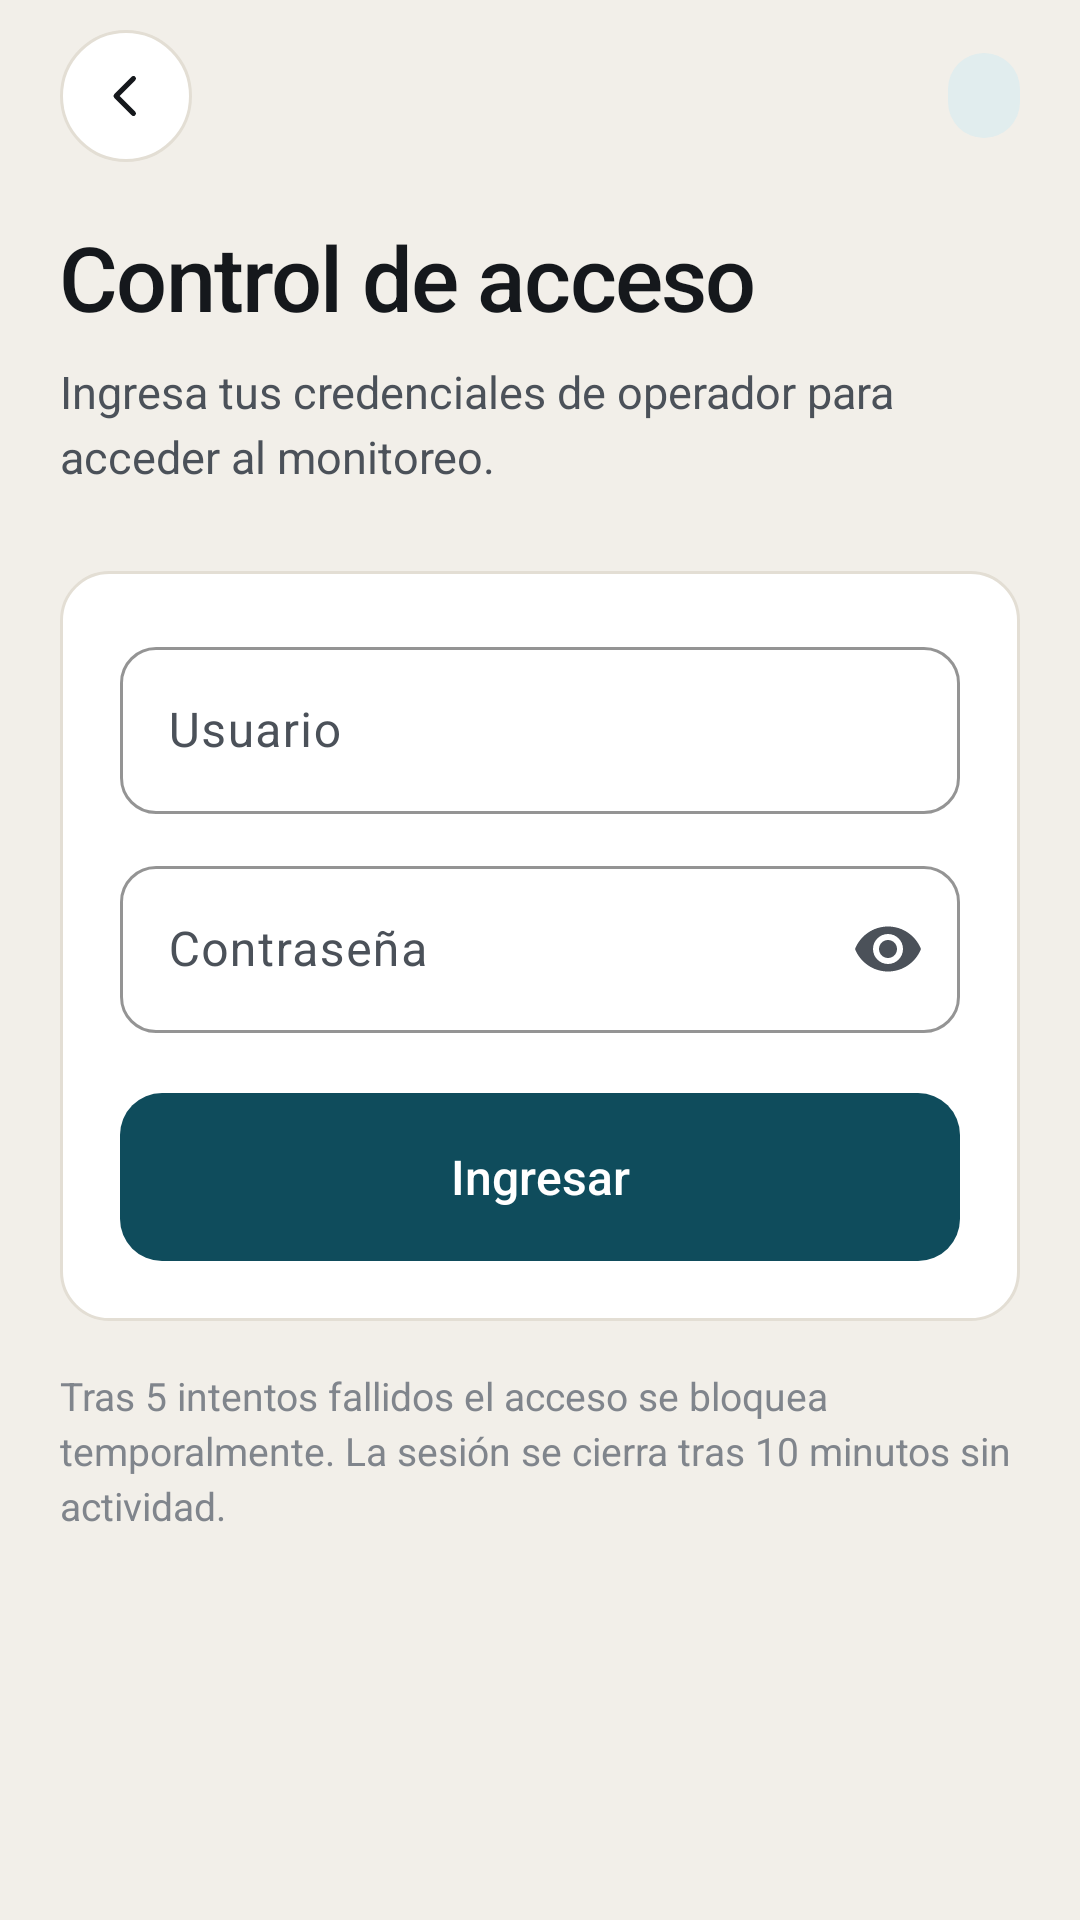

Screen size 1080×1920. Icon name, then its box in pixels as (x1, y1, x2, y2):
Volver: (60, 30, 192, 162)
